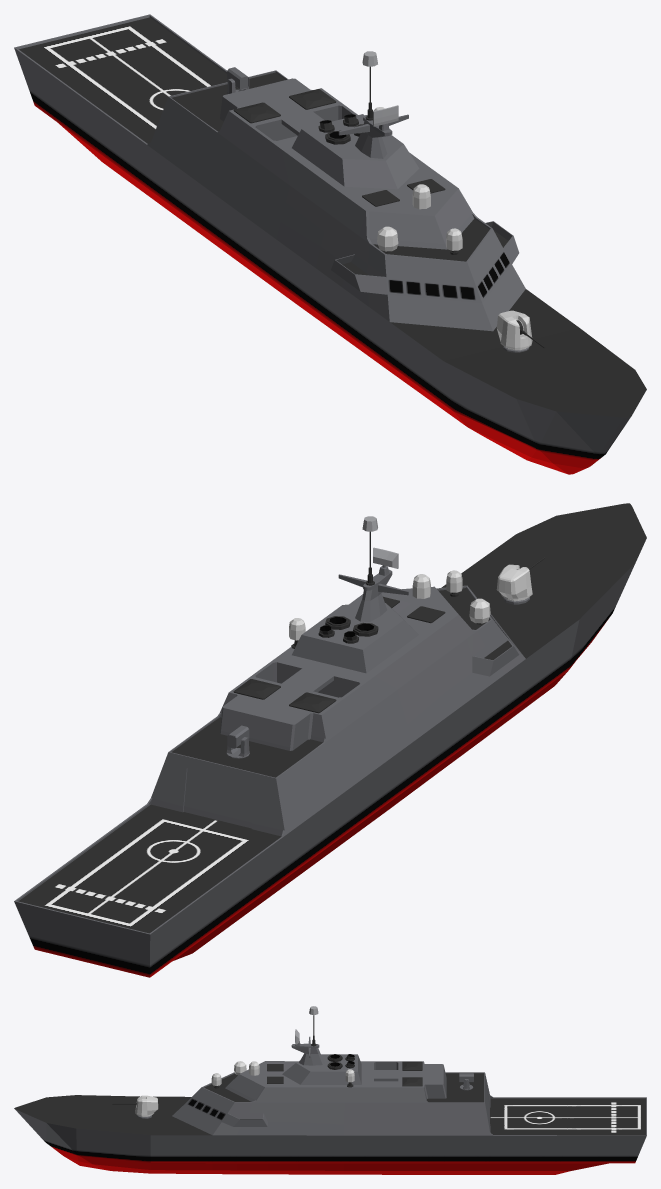
3 renders of one model, top to bottom at view 1: azimuth 30°, elevation 25°; view 2: azimuth 150°, elevation 25°; view 3: azimuth 270°, elevation 25°, orthographic. The views are drawn at different scales.
Parts seen in each view (by area): view 1: Cube.008, Circle.005; view 2: Cube.008, Cube.011, Circle.005; view 3: Cube.008, Circle.005.
Boxes of the visible parts, box(x1,y1,x2,y2) form: Cube.008: box(14, 14, 646, 474); Circle.005: box(496, 310, 532, 350); Cube.008: box(14, 503, 646, 977); Cube.011: box(183, 767, 255, 828); Circle.005: box(496, 564, 532, 601); Cube.008: box(14, 1006, 646, 1174); Circle.005: box(135, 1095, 158, 1116).
Size of the model in its own units: 1954 by 3269 by 11664.
